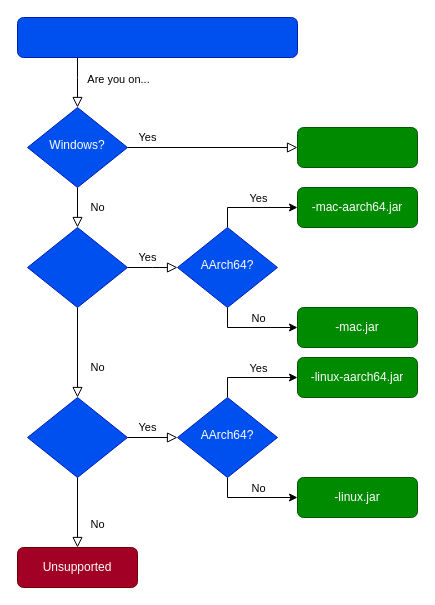
This 435x605 diagram has some shape labels left out. Each missing label, with the centre of its shape:
-windows.jar: pixel 357 147
Linux?: pixel 77 437
Mac?: pixel 77 267
Which platform of JavaFX do I use?: pixel 157 37
